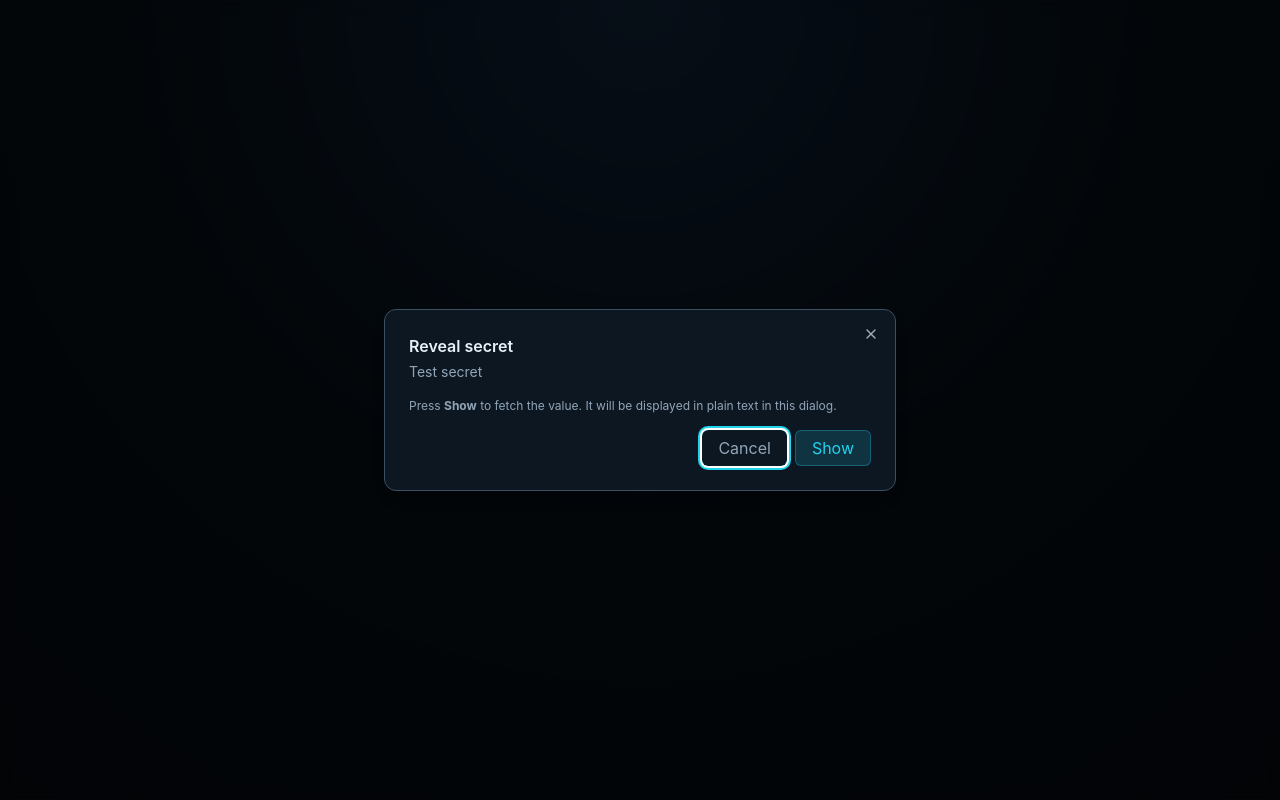
RevealSecretView › rejects non-UTF-8 bytes without replacement text or clipboard access
Click the button "Show" at x=833, y=448, box [795,430,871,466]
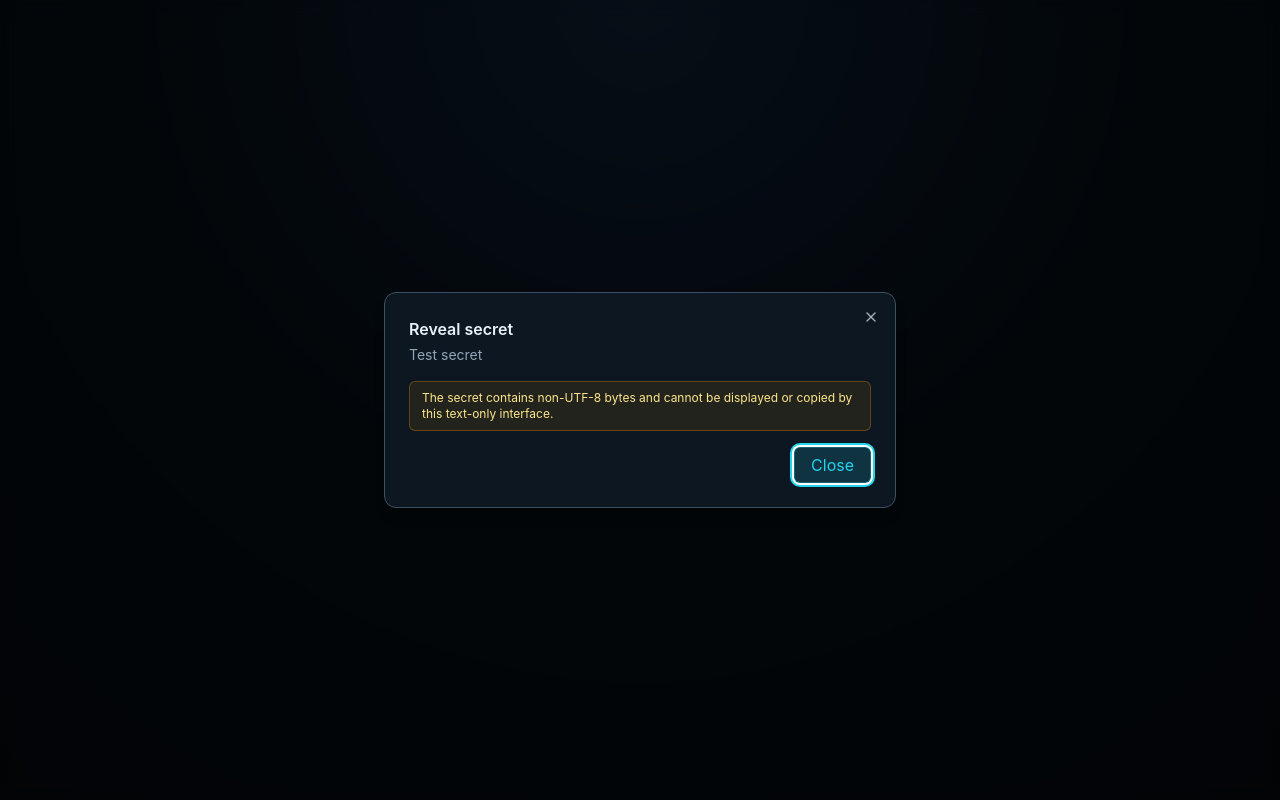
Expected: the text "contains non-UTF-8 bytes" is shown, [422,390,852,421]
